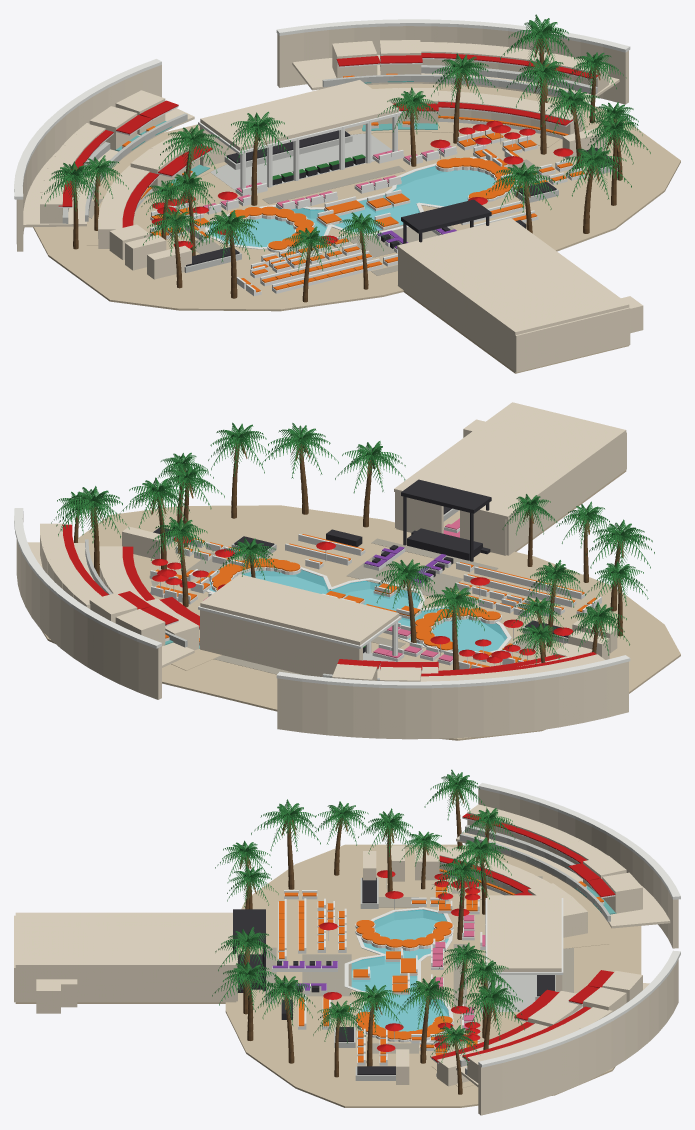
File: encore-beach-club.glb
3 renders of one model, top to bottom at view 1: azimuth 30°, elevation 25°; view 2: azimuth 150°, elevation 25°; view 3: azimuth 270°, elevation 25°, orthographic. The views are drawn at different scales.
Parts seen in each view (by area): view 1: Deck, Facade, Backstage_Roof, Backstage_Walls, Gaming_Roof, Terrace_Upper, Pool_Water, Gaming_Pavilion, Pool_Basin, Walkway_Paths, Terrace_Lower, Stage_Truss (+49 smaller); view 2: Facade, Deck, Backstage_Roof, Gaming_Roof, Backstage_Walls, Gaming_Pavilion, Pool_Water, Pool_Basin, Walkway_Paths, Stage_Truss, Palm_17, Palm_07 (+29 smaller); view 3: Deck, Facade, Backstage_Roof, Backstage_Walls, Gaming_Roof, Pool_Water, Pool_Basin, Walkway_Paths, Terrace_Upper, T_6, Palm_17, Palm_04 (+39 smaller).
Part boxes in pixels (x1=…): Deck: x1=33, y1=83, x2=680, y2=311; Facade: x1=14, y1=19, x2=630, y2=251; Backstage_Roof: x1=397, y1=218, x2=629, y2=335; Backstage_Walls: x1=398, y1=249, x2=643, y2=372; Gaming_Roof: x1=198, y1=80, x2=401, y2=154; Terrace_Upper: x1=23, y1=55, x2=619, y2=227; Pool_Water: x1=209, y1=166, x2=495, y2=247; Gaming_Pavilion: x1=200, y1=114, x2=397, y2=190; Pool_Basin: x1=209, y1=167, x2=495, y2=246; Walkway_Paths: x1=88, y1=139, x2=548, y2=275; Terrace_Lower: x1=87, y1=121, x2=560, y2=245; Stage_Truss: x1=401, y1=199, x2=491, y2=243; Facade: x1=14, y1=508, x2=630, y2=739; Deck: x1=41, y1=505, x2=680, y2=740; Backstage_Roof: x1=394, y1=402, x2=626, y2=519; Gaming_Roof: x1=198, y1=574, x2=401, y2=648; Backstage_Walls: x1=395, y1=419, x2=626, y2=555; Gaming_Pavilion: x1=200, y1=610, x2=397, y2=676; Pool_Water: x1=209, y1=570, x2=506, y2=652; Pool_Basin: x1=209, y1=570, x2=506, y2=651; Walkway_Paths: x1=151, y1=538, x2=546, y2=674; Stage_Truss: x1=401, y1=479, x2=491, y2=561; Palm_17: x1=56, y1=486, x2=129, y2=576; Palm_07: x1=262, y1=423, x2=338, y2=514; Deck: x1=225, y1=844, x2=641, y2=1107; Facade: x1=478, y1=783, x2=680, y2=1115; Backstage_Roof: x1=15, y1=912, x2=237, y2=967; Backstage_Walls: x1=14, y1=915, x2=237, y2=1013; Gaming_Roof: x1=485, y1=895, x2=563, y2=974; Pool_Water: x1=351, y1=909, x2=449, y2=1031; Pool_Basin: x1=352, y1=911, x2=448, y2=1031; Walkway_Paths: x1=265, y1=876, x2=573, y2=1053; Terrace_Upper: x1=456, y1=832, x2=670, y2=1086; T_6: x1=587, y1=872, x2=642, y2=914; Palm_17: x1=457, y1=981, x2=524, y2=1050; Palm_04: x1=251, y1=799, x2=320, y2=889.
Bounding box in the file's own units: 105 × 17.57 × 105.
Materials: 2 (1 with a texture image).
